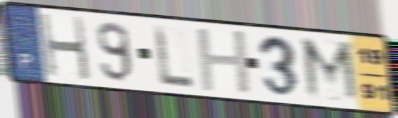3: (257, 32, 307, 100)
9: (95, 20, 134, 83)
H: (194, 28, 256, 95), (37, 12, 93, 83)
L: (151, 23, 197, 89)
M: (298, 35, 364, 106)
